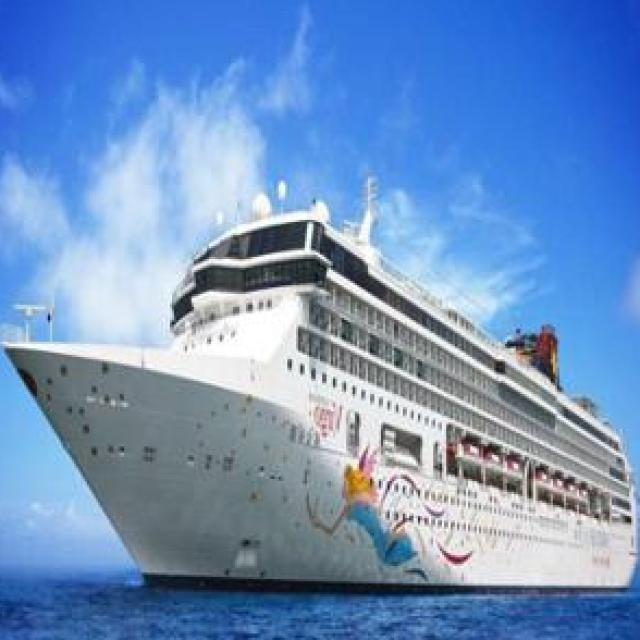passenger ship: (22, 197, 634, 583)
